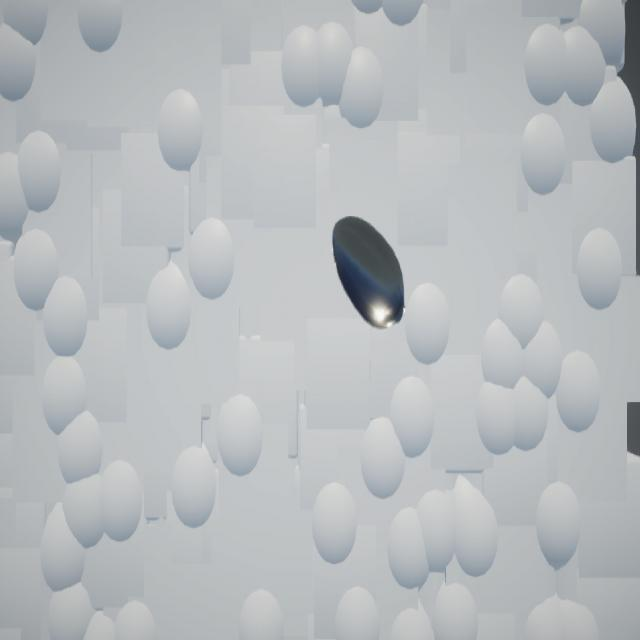top_spoon: (333, 217, 406, 331)
